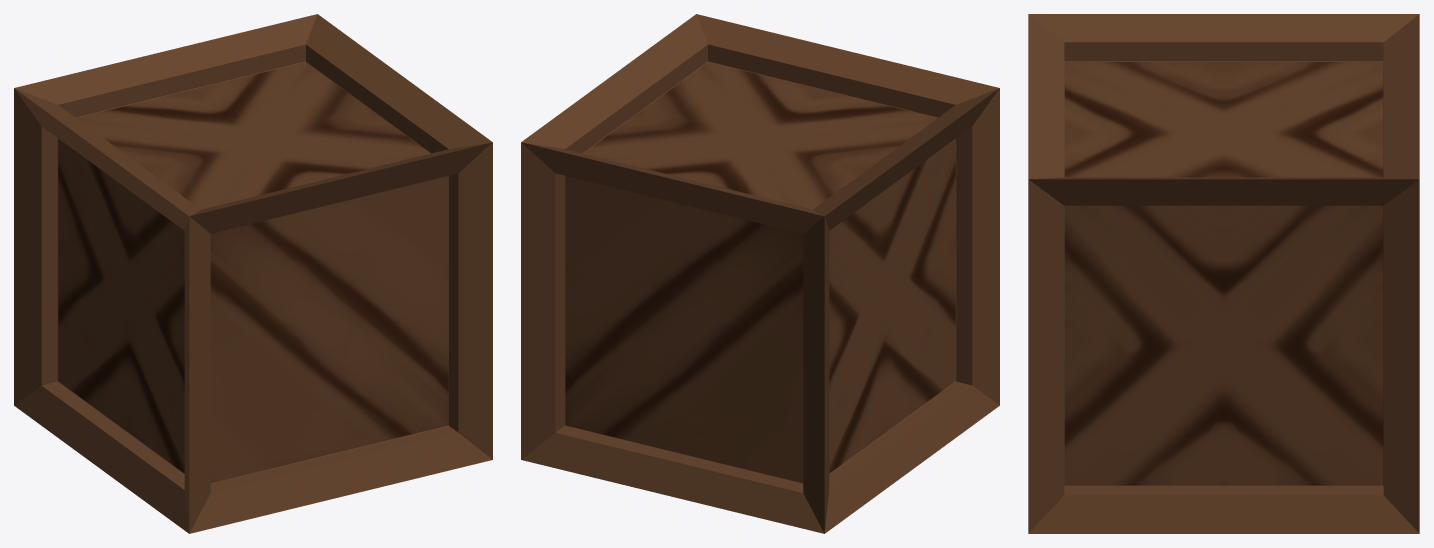
Rendered from Crate.fbx.
3 views of the same model, side by side, from view 1: azimuth 30°, elevation 25°; view 2: azimuth 150°, elevation 25°; view 3: azimuth 270°, elevation 25° (orthographic). The views are drawn at different scales.
Parts seen in each view (by area): view 1: Crate; view 2: Crate; view 3: Crate.
Boxes of the visible parts, box(x1,y1,x2,y2) form: Crate: box(14, 14, 492, 533); Crate: box(521, 14, 999, 533); Crate: box(1028, 14, 1419, 533).
Size of the model in its own units: 0.9596 by 0.9596 by 0.9596.
Materials: 1 (1 with a texture image).
